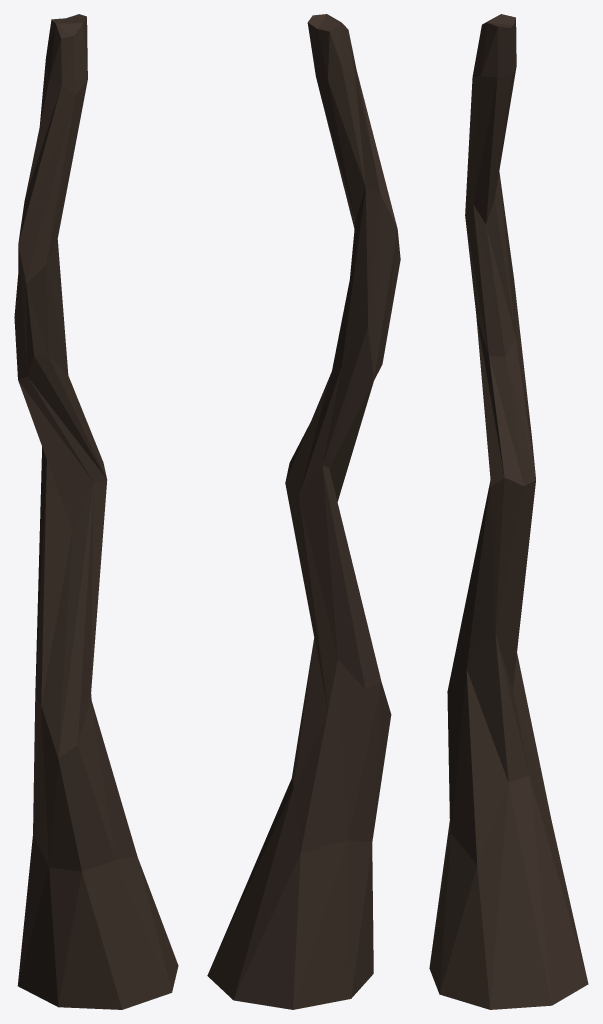
The model's file is Tree Witchered_7.fbx.
3 renders of one model, left to right at view 1: azimuth 30°, elevation 25°; view 2: azimuth 150°, elevation 25°; view 3: azimuth 270°, elevation 25°, orthographic. The views are drawn at different scales.
Visible parts, largest first — view 1: Tree Witchered_7; view 2: Tree Witchered_7; view 3: Tree Witchered_7.
Boxes of the visible parts, x1,y1,x2,y2 form: Tree Witchered_7: (14,14,178,1009); Tree Witchered_7: (207,14,400,1009); Tree Witchered_7: (429,14,588,1009).
Bounding box in the file's own units: 0.8397 × 4.71 × 0.7216.
